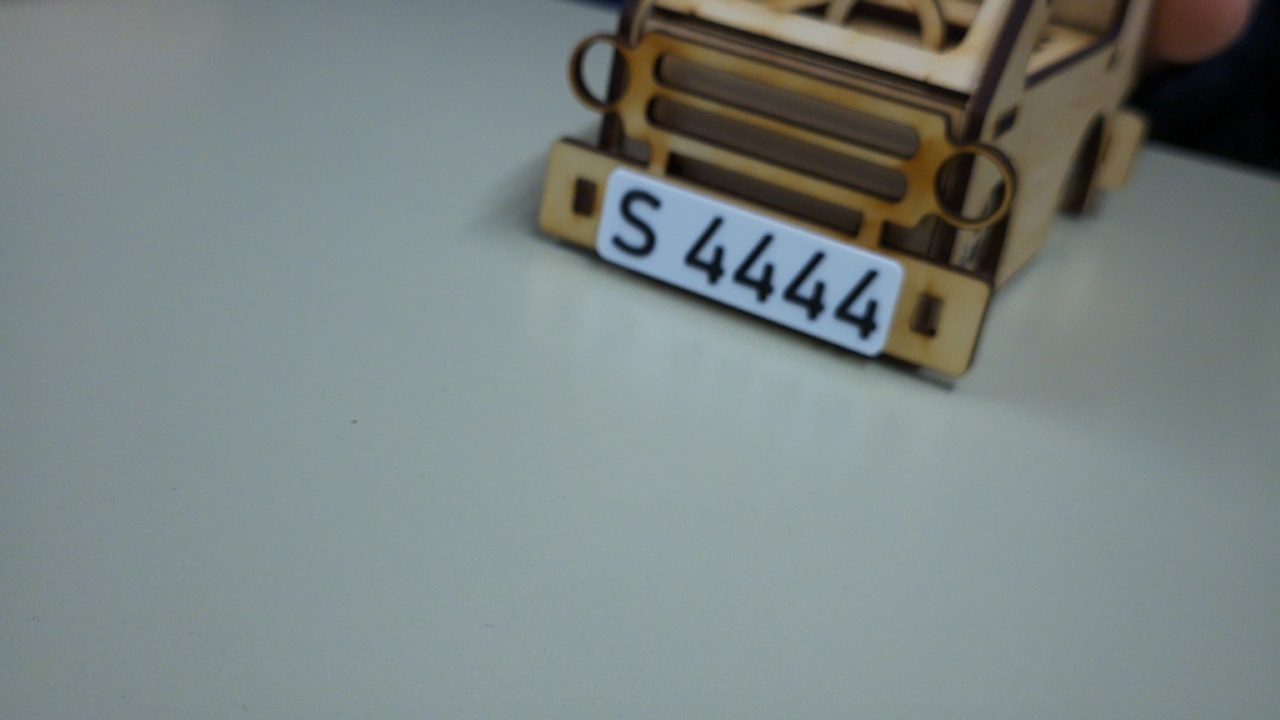license_plate: (595, 164, 906, 357)
